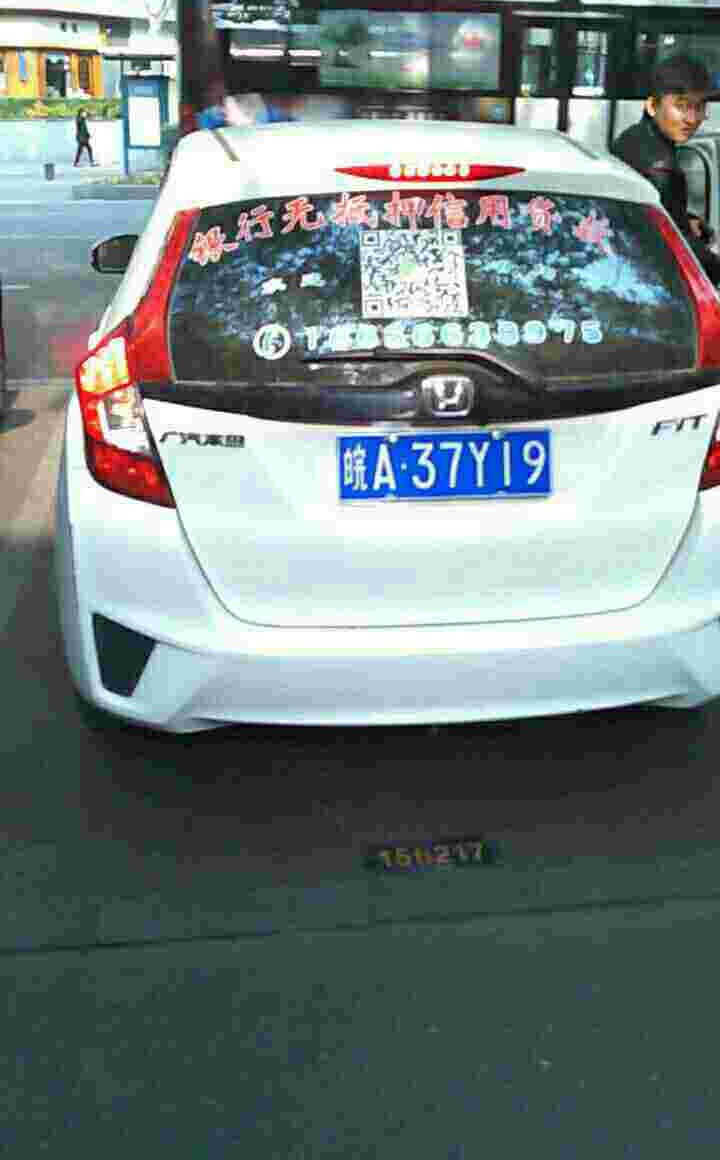license_plate: (341, 425, 557, 504)
